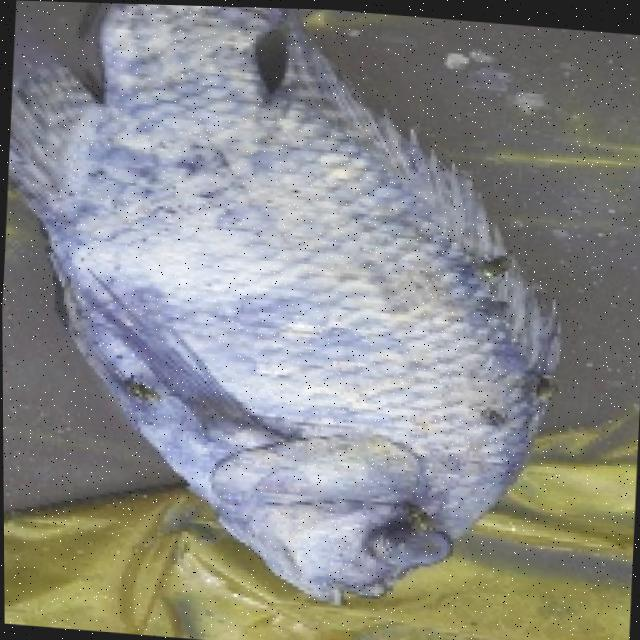Non-Fresh: (3, 0, 586, 639)
